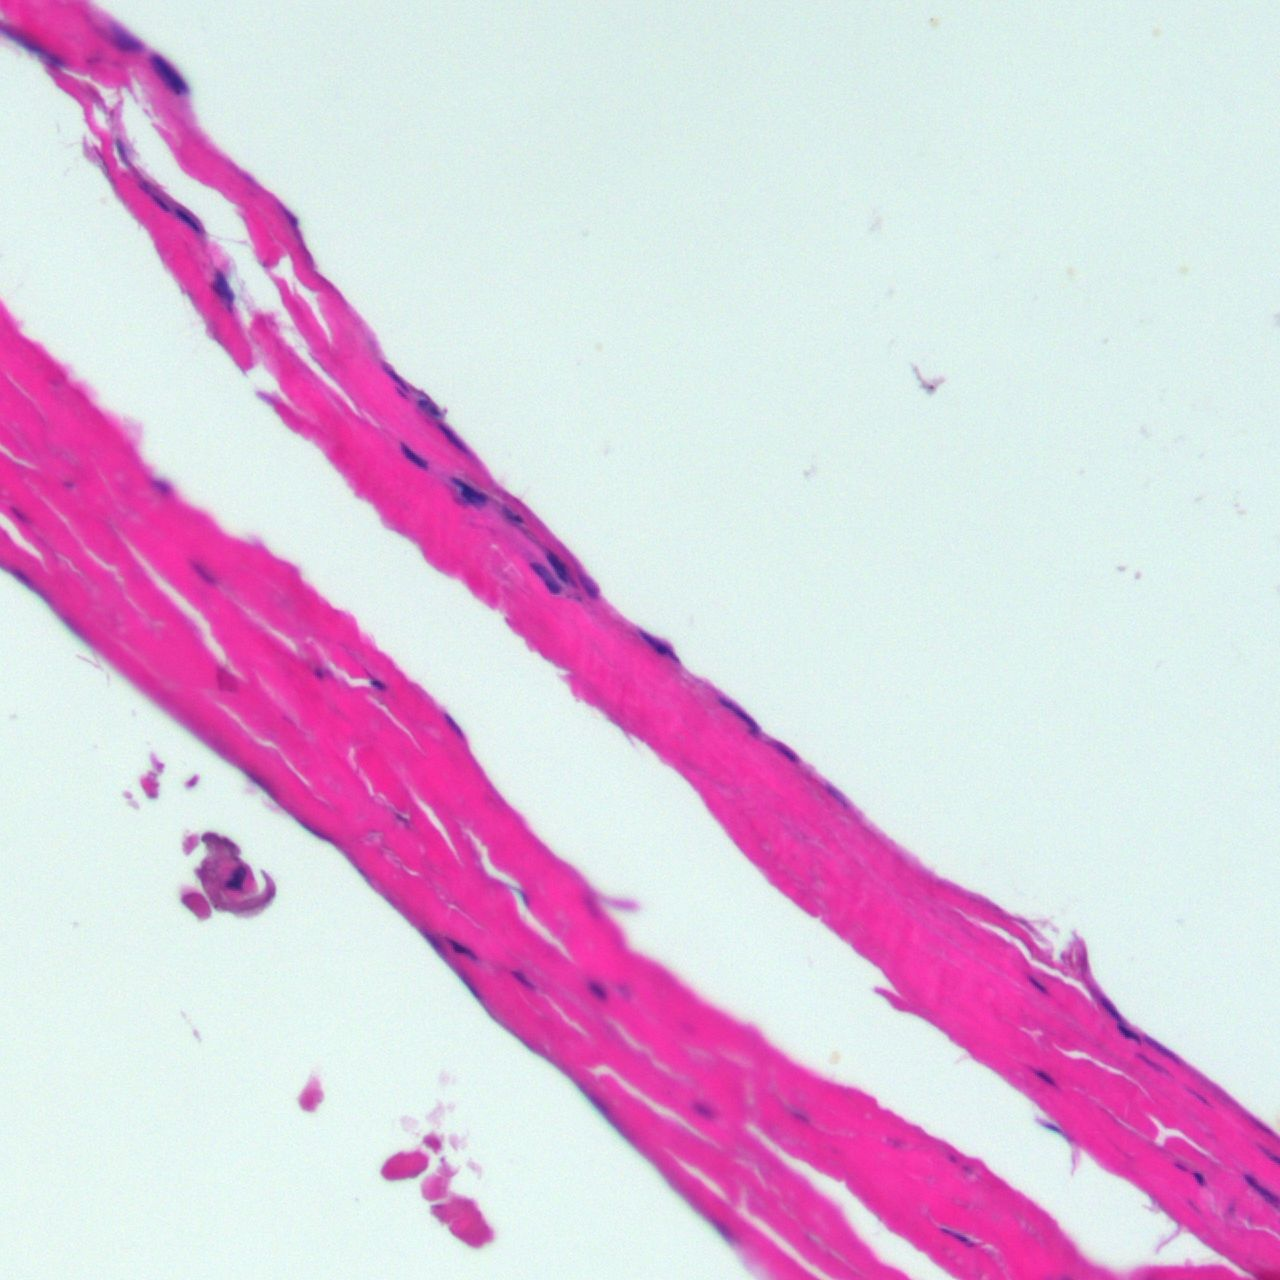nucleus-HE: (86, 7, 147, 64), (142, 45, 196, 100), (712, 692, 763, 738), (441, 474, 491, 515), (636, 626, 683, 668), (1139, 1030, 1189, 1070), (1237, 1167, 1280, 1211), (932, 1218, 983, 1254), (205, 266, 241, 315), (526, 554, 565, 599), (185, 553, 223, 593), (772, 1094, 815, 1128), (441, 931, 481, 966), (394, 437, 431, 474), (540, 546, 576, 585), (1133, 1048, 1173, 1082), (821, 779, 858, 815), (493, 498, 527, 533), (1179, 1080, 1216, 1112), (434, 420, 469, 452), (1092, 990, 1124, 1027), (413, 392, 445, 423), (172, 203, 203, 237), (381, 361, 411, 395), (767, 735, 799, 765), (508, 964, 538, 993), (440, 709, 468, 741), (7, 502, 36, 530), (1028, 1062, 1057, 1090), (1114, 1020, 1143, 1048), (111, 132, 132, 166), (1024, 972, 1051, 998), (148, 190, 172, 215), (580, 574, 601, 600), (692, 1099, 713, 1119), (585, 979, 605, 1000), (149, 476, 171, 495), (879, 1136, 908, 1150), (1171, 1159, 1190, 1175), (60, 476, 75, 491), (369, 678, 386, 692), (1191, 1171, 1205, 1185), (311, 666, 324, 680)
